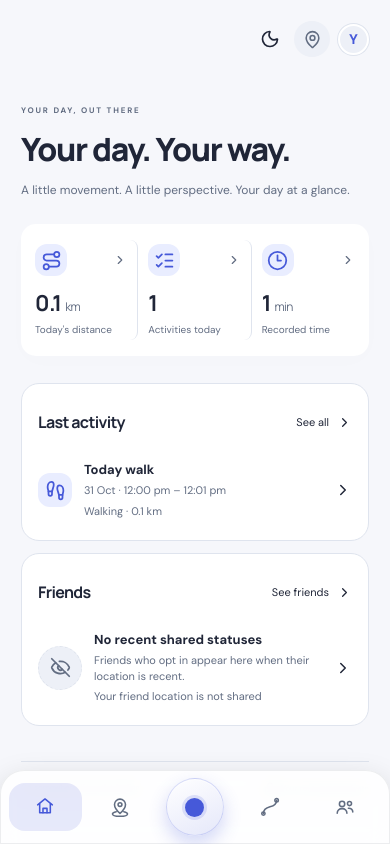
Test: opens today-only Trips from Home metrics and allows returning to all dates
Click the button with aria-label "Activities today: 1" at (195, 290), box [138,240,252,340]
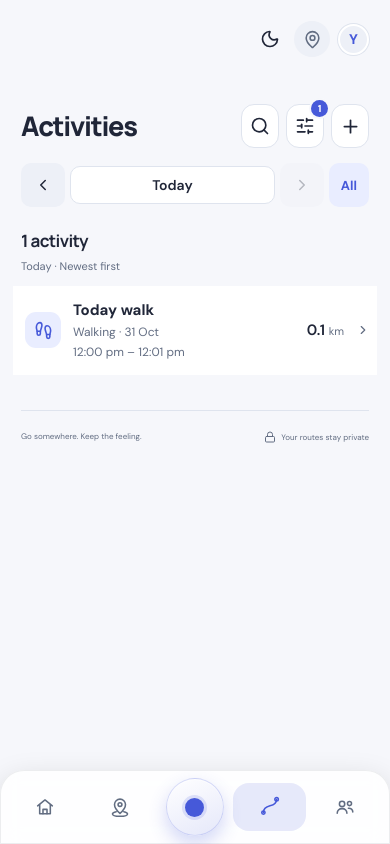
Now the button with aria-label "Open Today walk" is shown, box [25,301,344,360]
Click the button named "Activity filters, 1 active" at (305, 126), box [286,104,324,148]
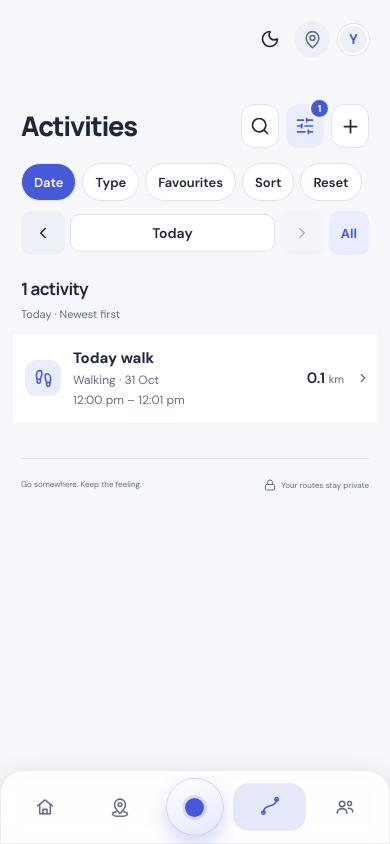
Click the button "Date" at (49, 182), box [21,163,76,201]
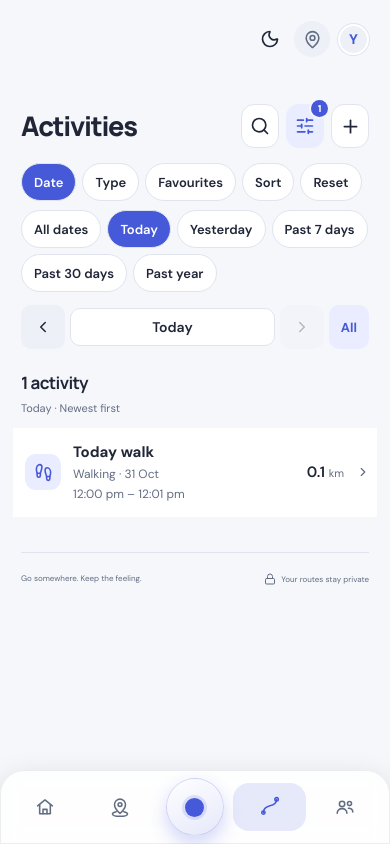
Click the button "All dates" at (61, 229), box [21,210,101,248]
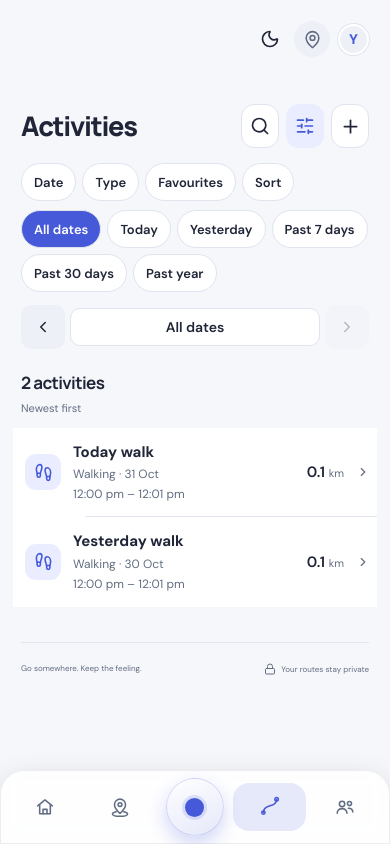
Now the button with aria-label "Open Yesterday walk" is shown, box [25,532,344,592]
